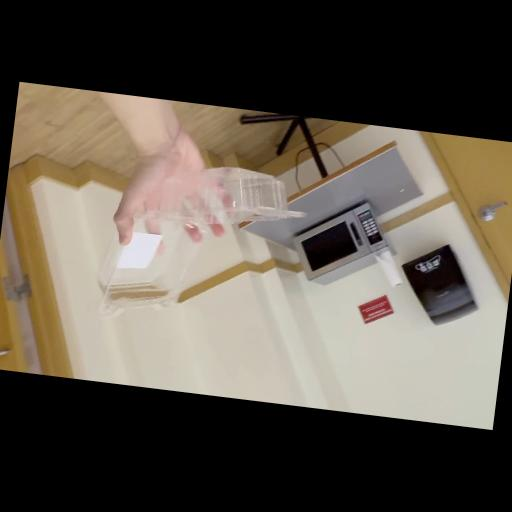small_plastic_container: (86, 151, 312, 343)
